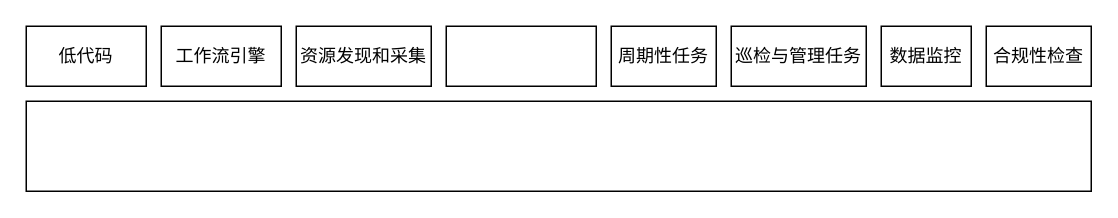
Image size: 1118x218. Some labels were removed from this diagram. The shapes that lost their labels are listed below. From the top down, each one's centre as x and y in pixels, then its label:
point 520,55: 数据库与全文索引
point 558,145: CMDB底座
